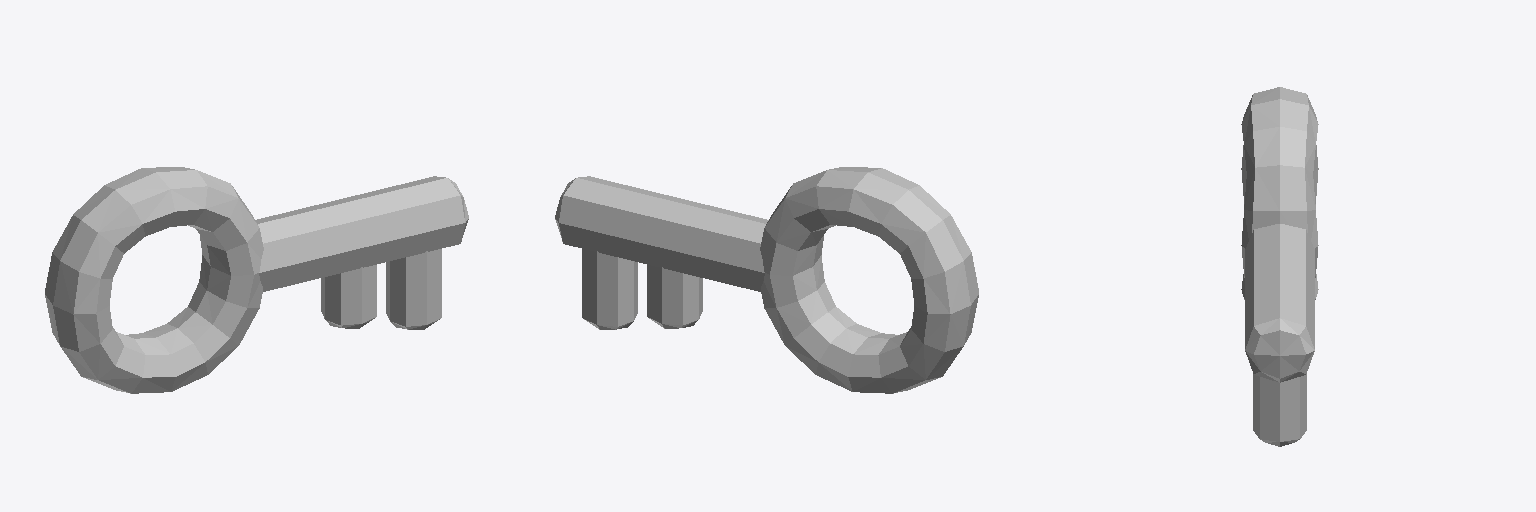
File: Key.obj
3 views of the same model, side by side, from view 1: azimuth 30°, elevation 25°; view 2: azimuth 150°, elevation 25°; view 3: azimuth 270°, elevation 25° (orthographic).
Visible parts, largest first — view 1: Key_Cube.532; view 2: Key_Cube.532; view 3: Key_Cube.532.
Boxes of the visible parts, box(x1,y1,x2,y2) form: Key_Cube.532: box(45, 167, 468, 393); Key_Cube.532: box(555, 167, 978, 393); Key_Cube.532: box(1241, 87, 1318, 446).
Bounding box in the file's own units: 1.93 × 0.9819 × 0.3177.